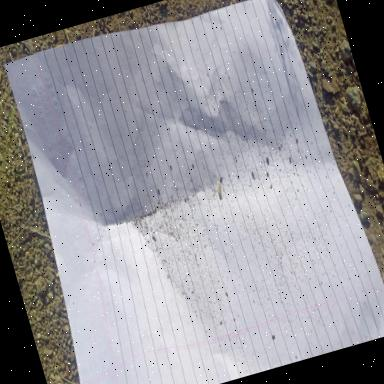pbw: (214, 178, 225, 198)
